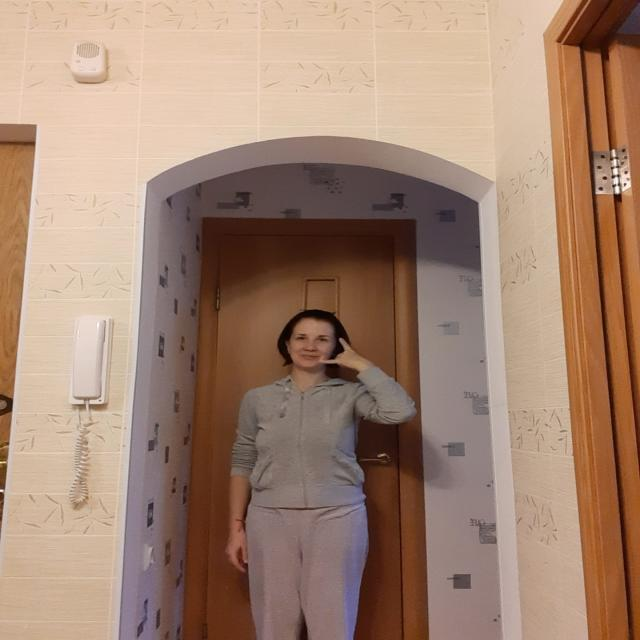call: (315, 336, 374, 373)
